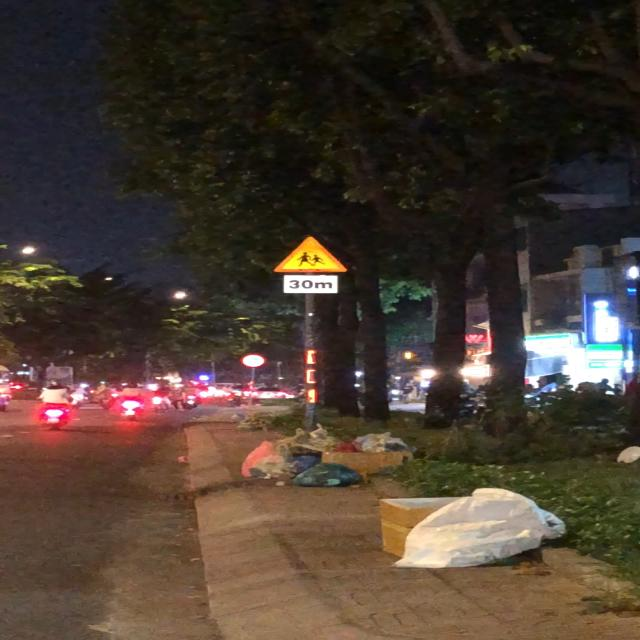Bien bao tre em: (267, 235, 351, 275)
